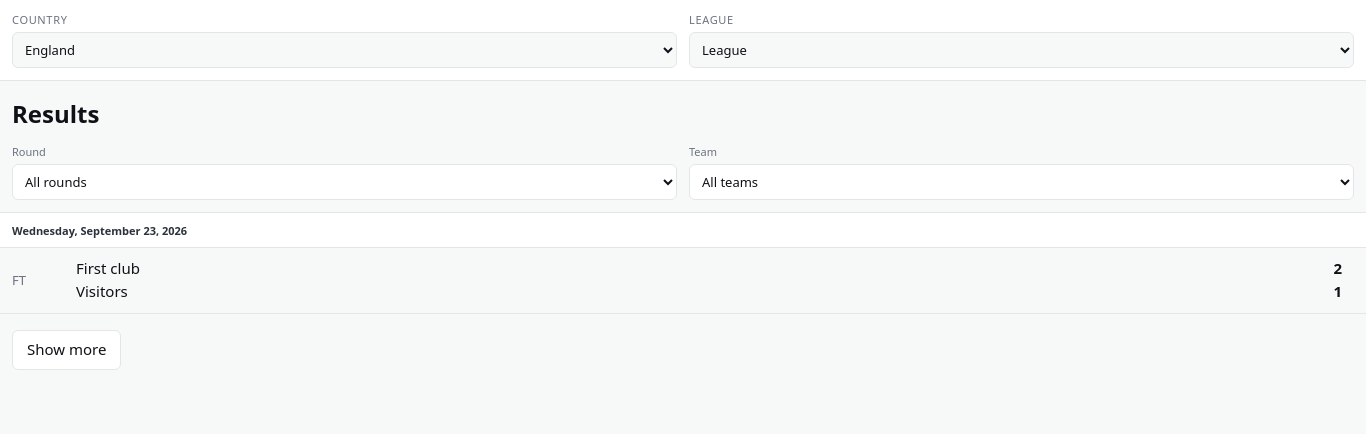
Test case: results › shows finished matches and follows the server's nextLink
expect the text "FT" is shown: met, box x1=12 y1=271 x2=26 y2=289
Click the button "Show more".
click(67, 350)  # box x1=12 y1=330 x2=121 y2=370
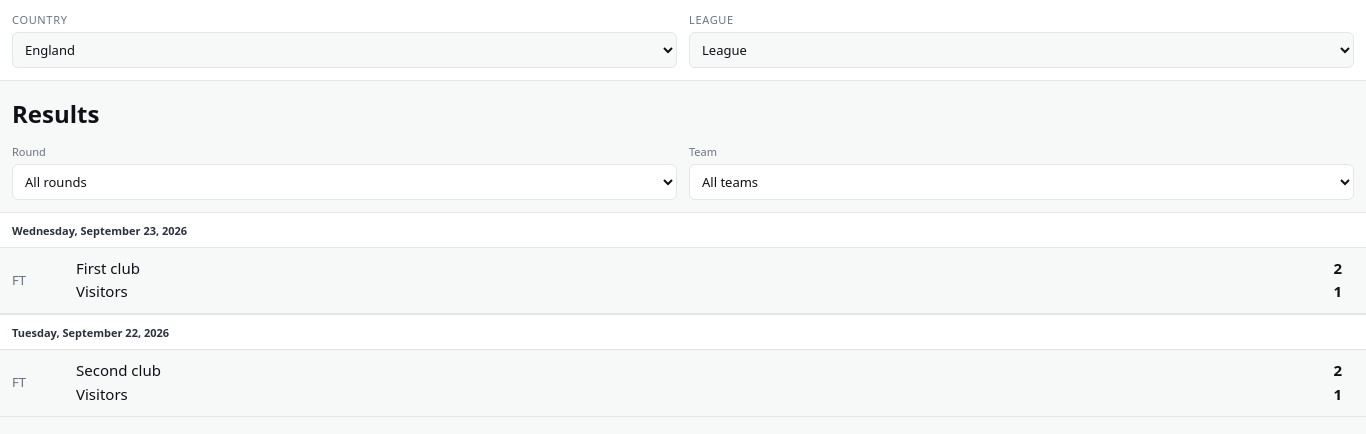
expect the text "Second club" is shown: met, box x1=76 y1=360 x2=161 y2=380
expect the button "Show more" is gone: met
Select "2" in the dropdown labelled "Round" at (344, 182), box x1=12 y1=164 x2=677 y2=200
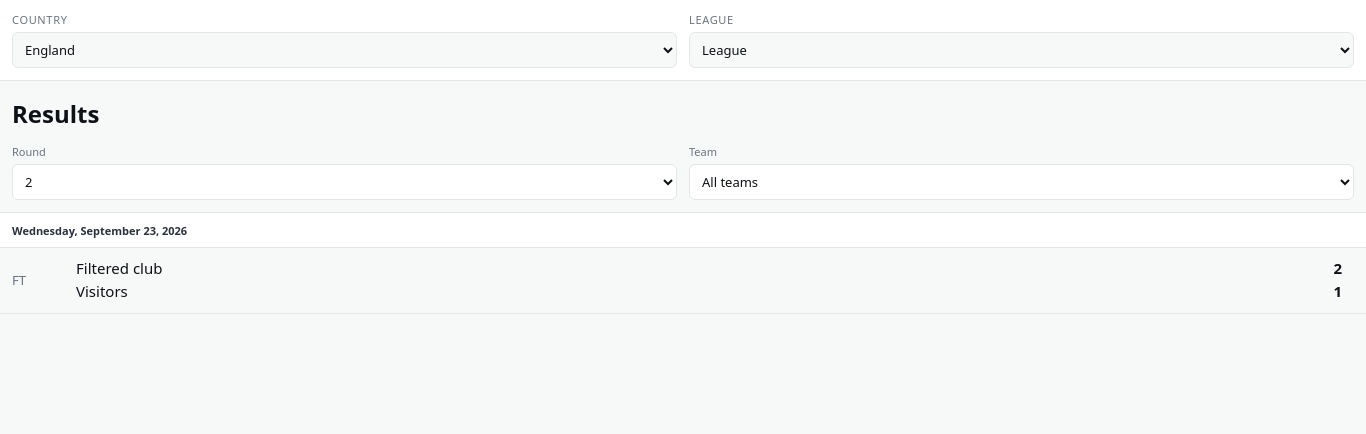
expect the text "Filtered club" is shown: met, box x1=76 y1=258 x2=162 y2=278
Select "First club" in the dropdown labelled "Team" at (1022, 182), box x1=689 y1=164 x2=1354 y2=200
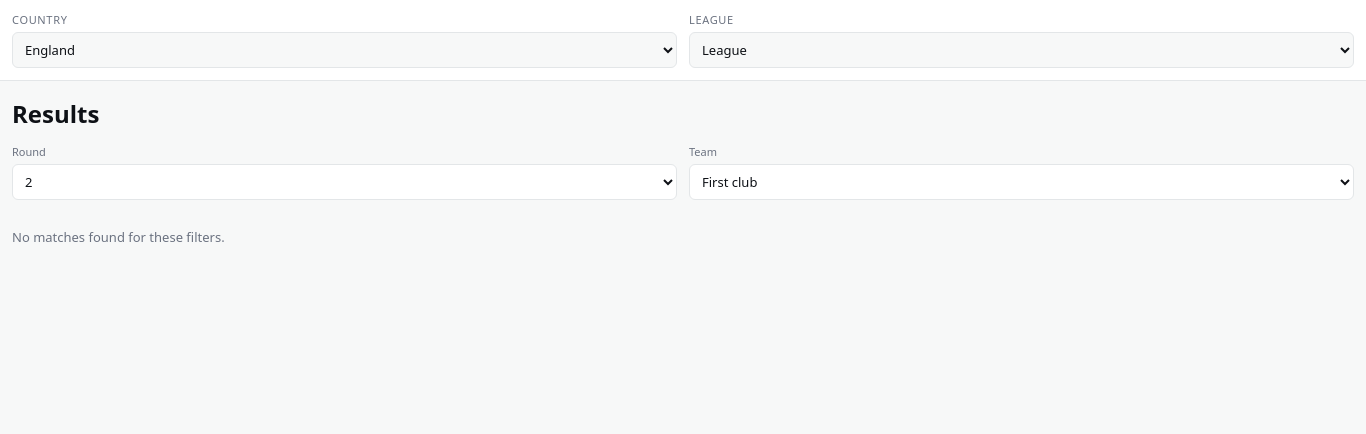
expect the text "No matches found for these filters." is shown: met, box x1=12 y1=228 x2=225 y2=246
